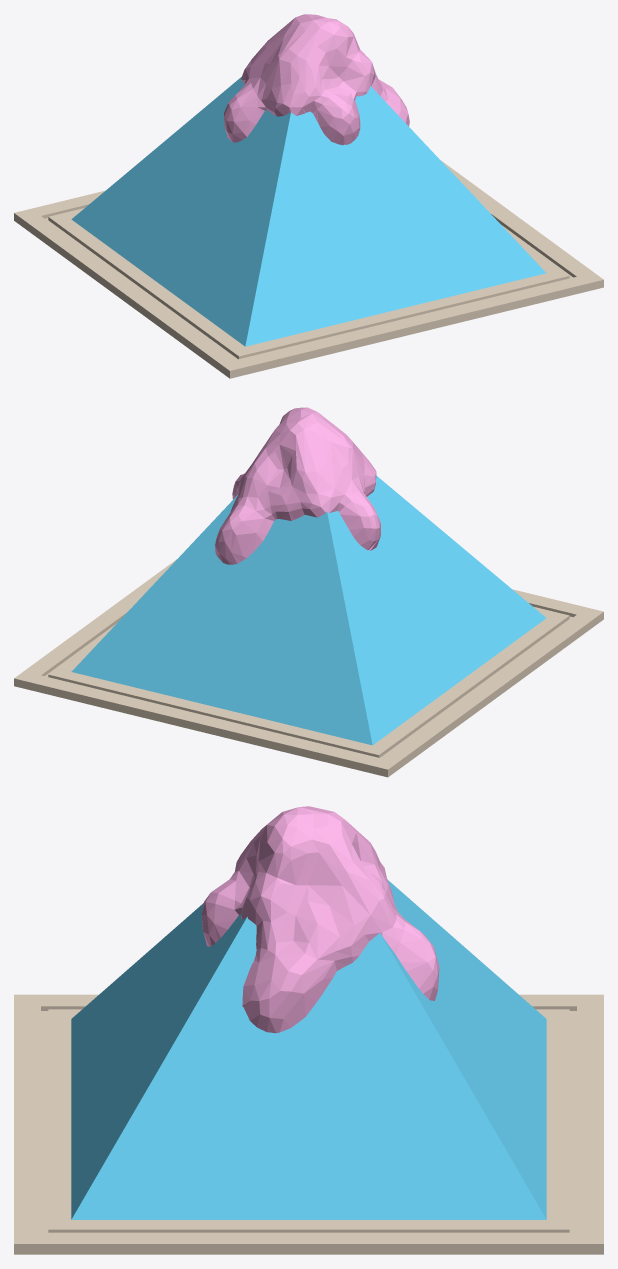
File: AssietteGatoPyra.fbx
The picture shows the model from 3 angles, top to bottom: view 1: azimuth 30°, elevation 25°; view 2: azimuth 150°, elevation 25°; view 3: azimuth 270°, elevation 25°; orthographic projection. The views are drawn at different scales.
Parts seen in each view (by area): view 1: Cube.080; view 2: Cube.080; view 3: Cube.080.
Part boxes in pixels (x1,y1,x2,y2): Cube.080: [14, 14, 603, 378]; Cube.080: [14, 407, 603, 777]; Cube.080: [14, 806, 603, 1254].
Size of the model in its own units: 0.7652 by 0.4626 by 0.7652.
